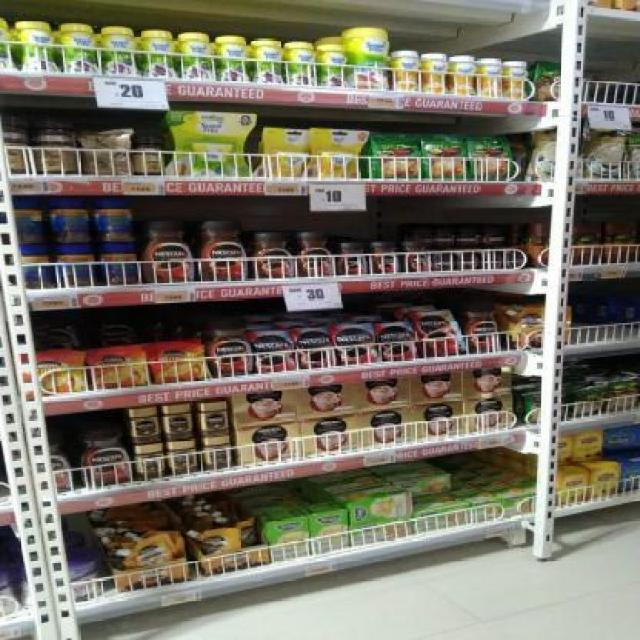Coffee: (139, 218, 193, 282), (200, 218, 246, 280), (20, 353, 83, 394), (208, 314, 250, 375), (85, 425, 129, 482), (416, 311, 462, 355), (92, 351, 146, 386), (252, 233, 293, 278), (153, 347, 203, 382), (466, 304, 500, 354), (298, 233, 334, 277), (254, 334, 292, 371), (337, 328, 372, 364), (298, 332, 332, 368), (378, 326, 414, 358), (200, 404, 228, 435), (339, 242, 366, 274), (133, 410, 159, 443), (136, 447, 164, 477), (373, 242, 399, 273), (169, 443, 196, 472), (166, 407, 190, 438), (204, 439, 231, 466), (404, 242, 426, 273), (432, 254, 454, 271), (483, 229, 506, 245), (460, 229, 479, 248), (458, 255, 480, 271), (435, 229, 454, 246), (484, 253, 502, 270), (506, 252, 524, 268), (410, 228, 432, 240)
